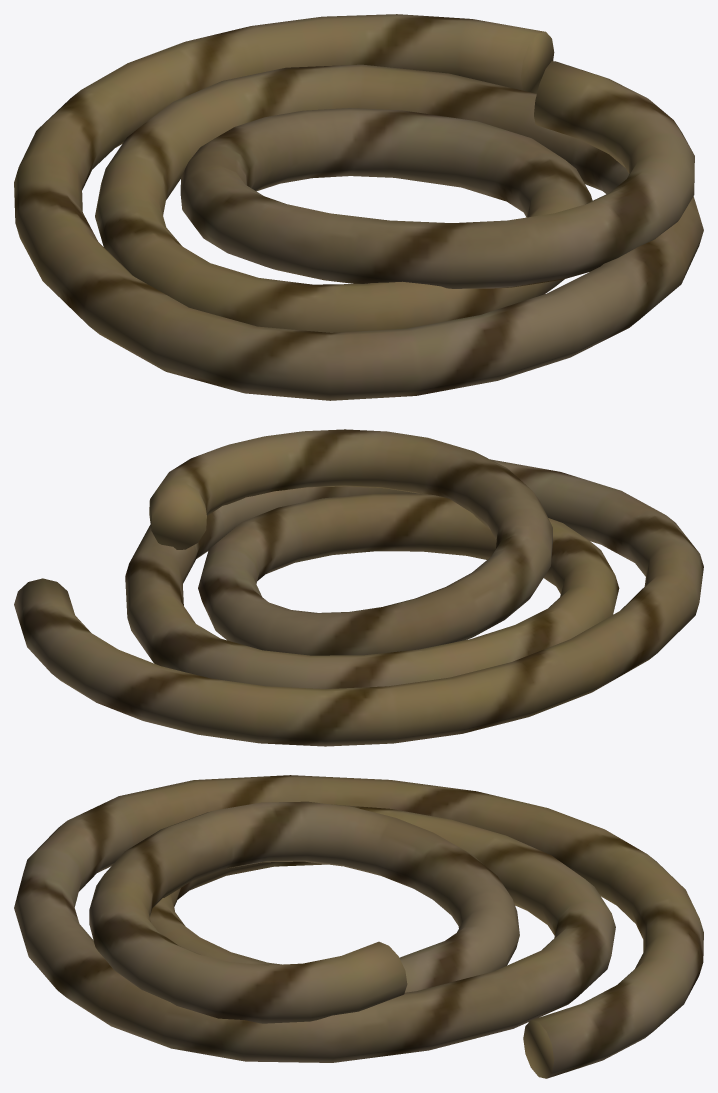
Rendered from Rope_1.glb.
The picture shows the model from 3 angles, top to bottom: view 1: azimuth 30°, elevation 25°; view 2: azimuth 150°, elevation 25°; view 3: azimuth 270°, elevation 25°; orthographic projection. The views are drawn at different scales.
Parts seen in each view (by area): view 1: Rope_1; view 2: Rope_1; view 3: Rope_1.
Part boxes in pixels (x1,y1,x2,y2): Rope_1: (14, 14, 703, 400); Rope_1: (14, 429, 703, 746); Rope_1: (14, 775, 703, 1078).
Size of the model in its own units: 0.5574 by 0.0979 by 0.6063.
Materials: 1 (1 with a texture image).
